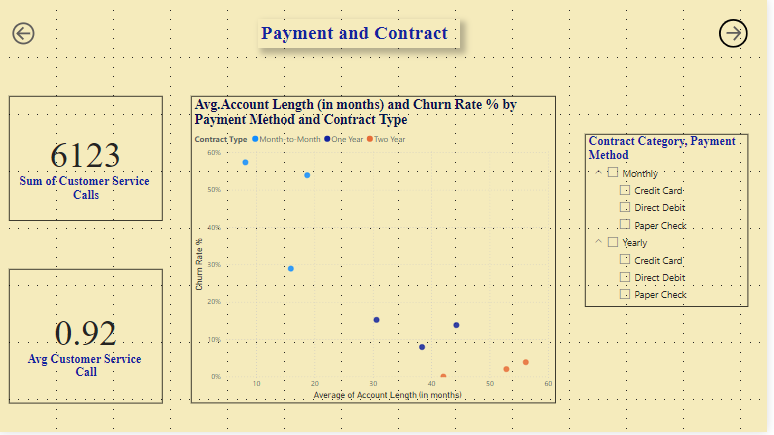

The dashboard page shown, as its layout file describes it:
{"tool":"powerbi","page":{"name":"Payment and Contract","canvas":[1280,720],"ordinal":7},"visuals":[{"type":"card","fields":{"Values":["__Measures.Avg Customer Service Call"]},"box":[16,448,256,224],"z":0},{"type":"card","fields":{"Values":["Sum(Databel - Data.Customer Service Calls)"]},"box":[16,160,256,208],"z":1000},{"type":"scatterChart","title":"Avg.Account Length (in months) and Churn Rate % by Payment Method and Contract Type","fields":{"Category":["Databel - Data.Payment Method"],"X":["Avg(Databel - Data.Account Length (in months))"],"Y":["__Measures.Churn Rate %"],"Series":["Databel - Data.Contract Type"]},"box":[320,160,608,512],"z":2000},{"type":"slicer","title":"Contract Category, Payment Method","fields":{"Values":["Databel - Data.Contract Category","Databel - Data.Payment Method"]},"box":[976,224,272,288],"z":3000},{"type":"actionButton","box":[16,32,64,48],"z":4000},{"type":"actionButton","box":[1200,32,48,48],"z":5000},{"type":"textbox","box":[432,32,336,48],"z":5001}]}

Visuals, with their boxes in screenshot pixels (x1, y1, x2, y2), scaled from the page's 1280x720 canvas onto the 774x435 screenshot:
card - __Measures.Avg Customer Service Call: detection(10, 271, 164, 406)
card - Sum(Databel - Data.Customer Service Calls): detection(10, 97, 164, 222)
"Avg.Account Length (in months) and Churn Rate % by Payment Method and Contract Type" scatterChart: detection(194, 97, 561, 406)
"Contract Category, Payment Method" slicer: detection(590, 135, 755, 309)
actionButton: detection(10, 19, 48, 48)
actionButton: detection(726, 19, 755, 48)
textbox: detection(261, 19, 464, 48)
